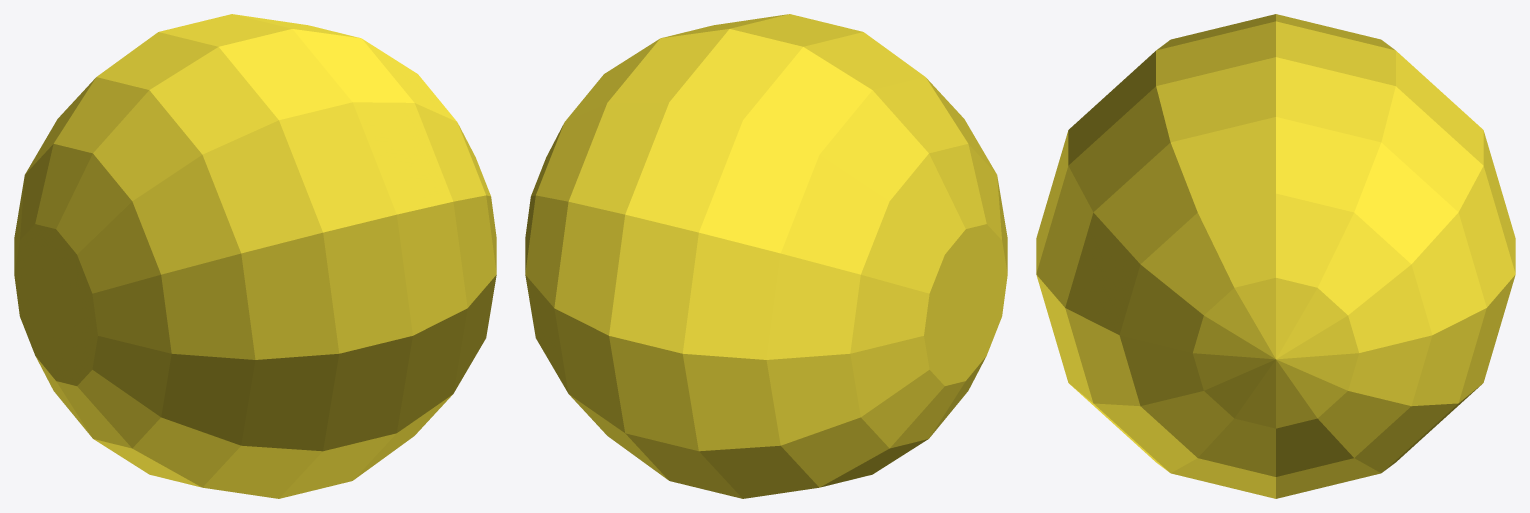
The model's file is Shotgun - Bullet.obj.
3 views of the same model, side by side, from view 1: azimuth 30°, elevation 25°; view 2: azimuth 150°, elevation 25°; view 3: azimuth 270°, elevation 25° (orthographic).
Parts seen in each view (by area): view 1: group730829222; view 2: group730829222; view 3: group730829222.
Boxes of the visible parts, left/top/right/bottom form: group730829222: left=14, top=14, right=496, bottom=498; group730829222: left=525, top=14, right=1007, bottom=498; group730829222: left=1036, top=14, right=1515, bottom=498.
Size of the model in its own units: 0.02 by 0.0197 by 0.0197.
